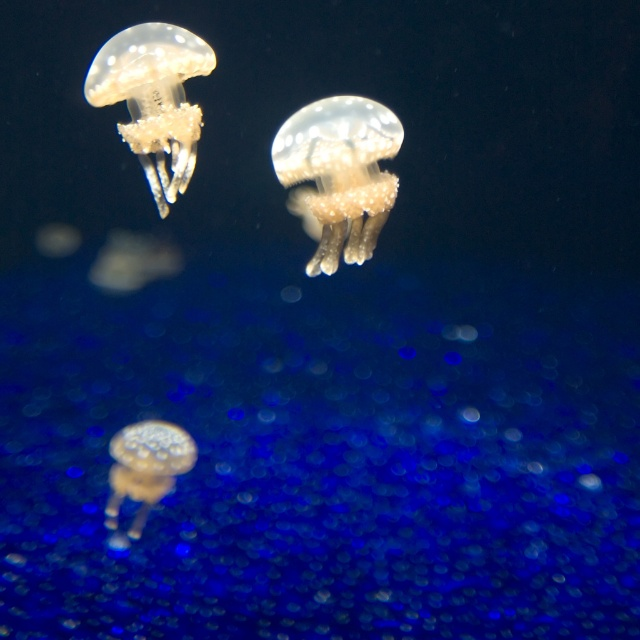Jellyfish: (86, 20, 222, 217), (261, 96, 407, 277), (104, 420, 195, 543)
